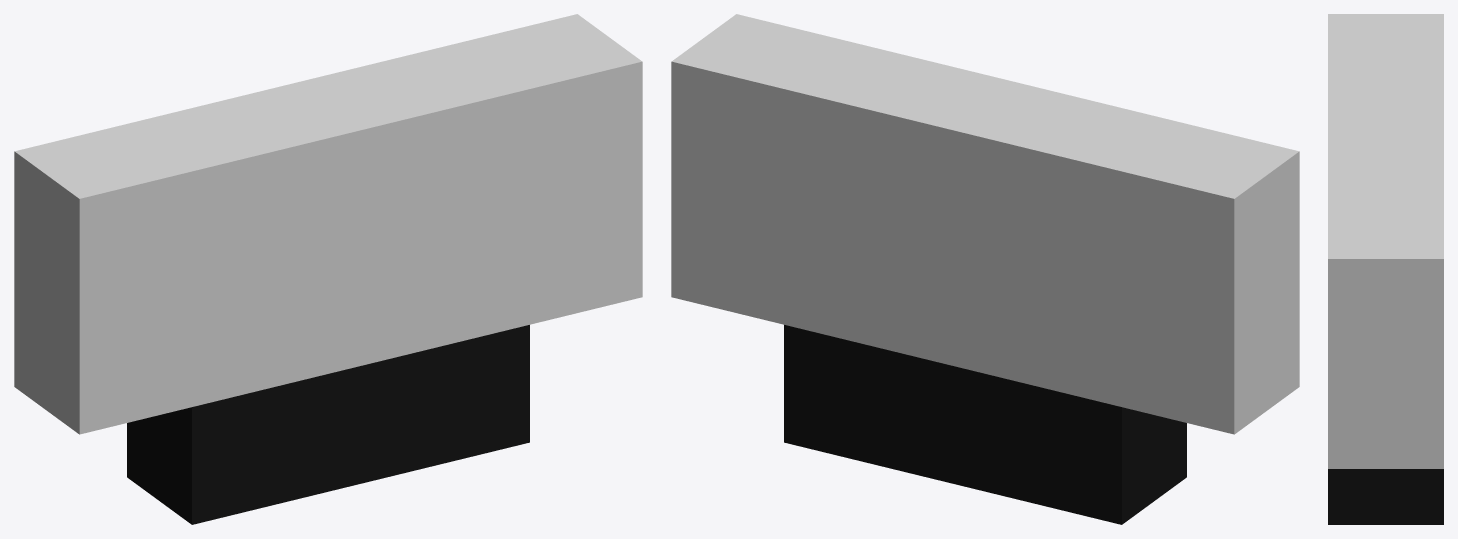
Rendered from base_eyeL.fbx.
The picture shows the model from 3 angles, left to right: view 1: azimuth 30°, elevation 25°; view 2: azimuth 150°, elevation 25°; view 3: azimuth 270°, elevation 25°; orthographic projection. The views are drawn at different scales.
Parts seen in each view (by area): view 1: base_eyeL; view 2: base_eyeL; view 3: base_eyeL.
Boxes of the visible parts, <box> form: base_eyeL: <box>14,14,642,524</box>; base_eyeL: <box>671,14,1299,524</box>; base_eyeL: <box>1328,14,1443,524</box>.
Bounding box in the file's own units: 5 × 3 × 1.
1 material, 1 textured.
